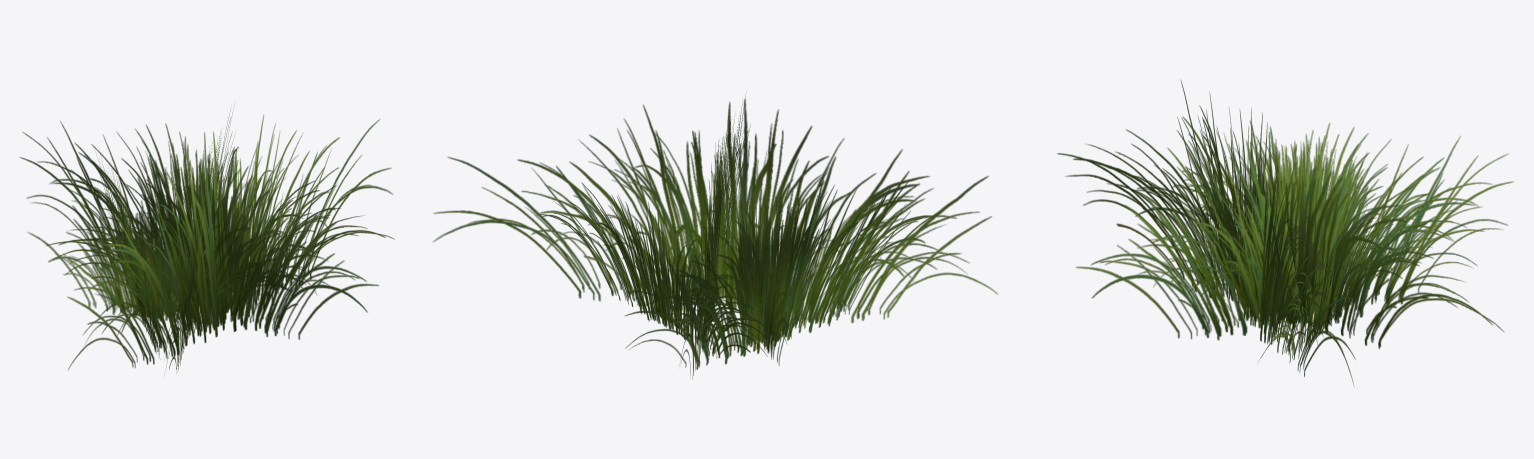
The model's file is grass.glb.
3 views of the same model, side by side, from view 1: azimuth 30°, elevation 25°; view 2: azimuth 150°, elevation 25°; view 3: azimuth 270°, elevation 25° (orthographic). The views are drawn at different scales.
Parts seen in each view (by area): view 1: Grass large 1; view 2: Grass large 1; view 3: Grass large 1.
Part boxes in pixels (left/top/right/bottom): Grass large 1: left=20, top=107, right=394, bottom=372; Grass large 1: left=433, top=92, right=997, bottom=378; Grass large 1: left=1057, top=79, right=1513, bottom=386.
Size of the model in its own units: 0.7848 by 0.3748 by 0.7274.
Materials: 1 (1 with a texture image).
